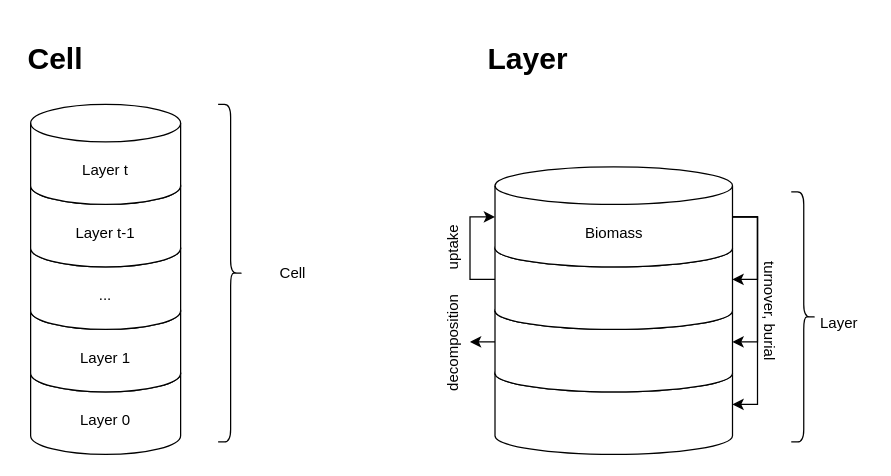
Some shapes in this 891 by 476 pixel diagram are drawn without their labels. The centre of each missing label's shape, as x and y in pixels:
Inorganic: point (613, 278)
Labile: point (613, 341)
Refractory: point (613, 403)
